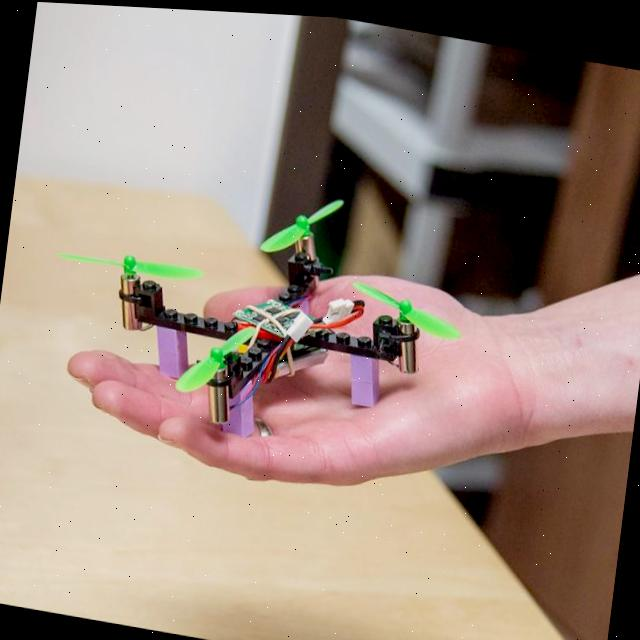drone: (28, 134, 484, 478)
